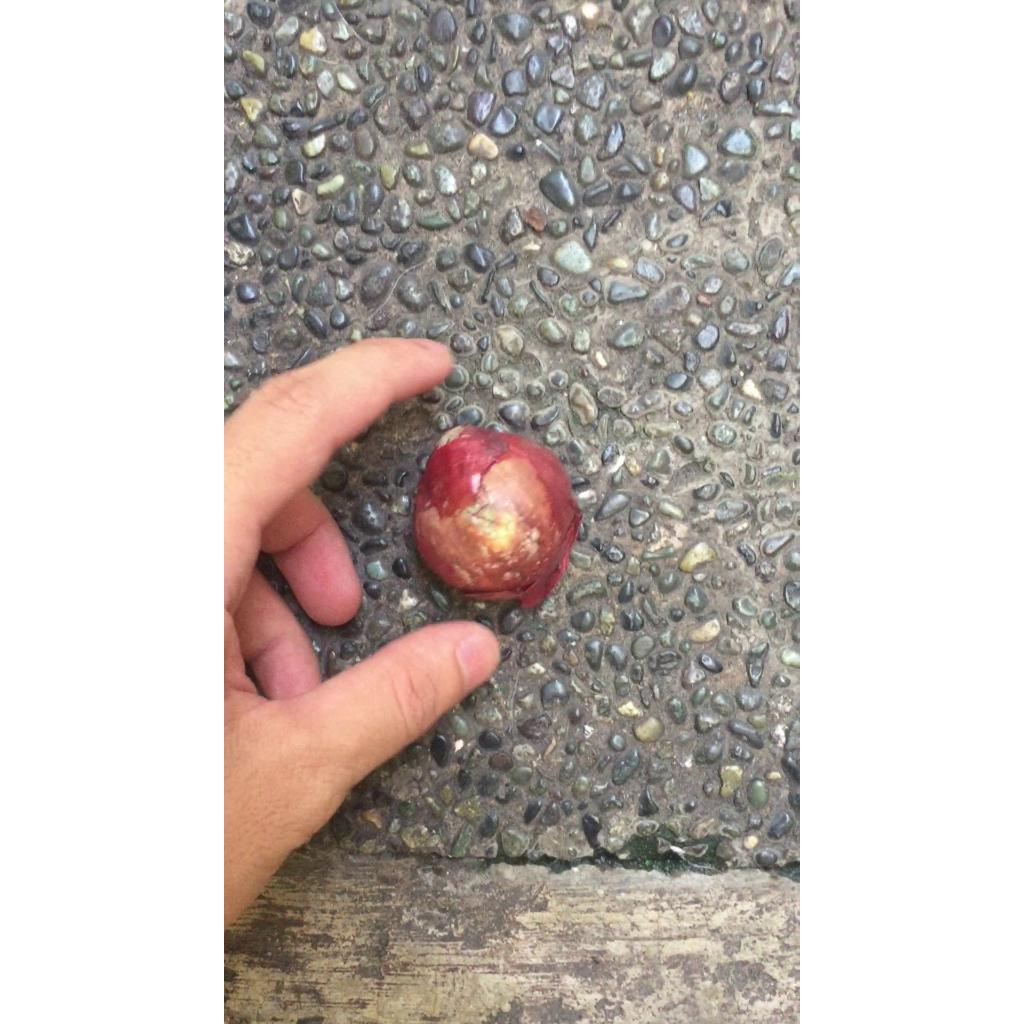Onion: (412, 425, 581, 608)
